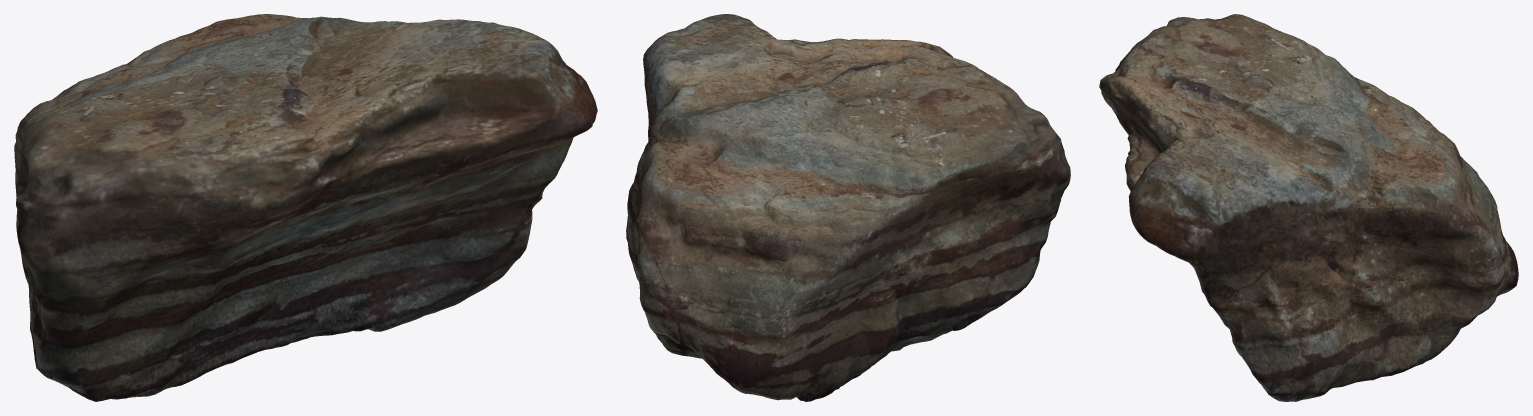
The model's file is roca 1.fbx.
3 renders of one model, left to right at view 1: azimuth 30°, elevation 25°; view 2: azimuth 150°, elevation 25°; view 3: azimuth 270°, elevation 25°, orthographic. The views are drawn at different scales.
Visible parts, largest first — view 1: Rock; view 2: Rock; view 3: Rock.
Part boxes in pixels (x1,y1,x2,y2): Rock: (14, 14, 597, 401); Rock: (626, 14, 1070, 401); Rock: (1099, 14, 1518, 401).
Size of the model in its own units: 140 by 75.73 by 116.
Materials: 1 (1 with a texture image).
